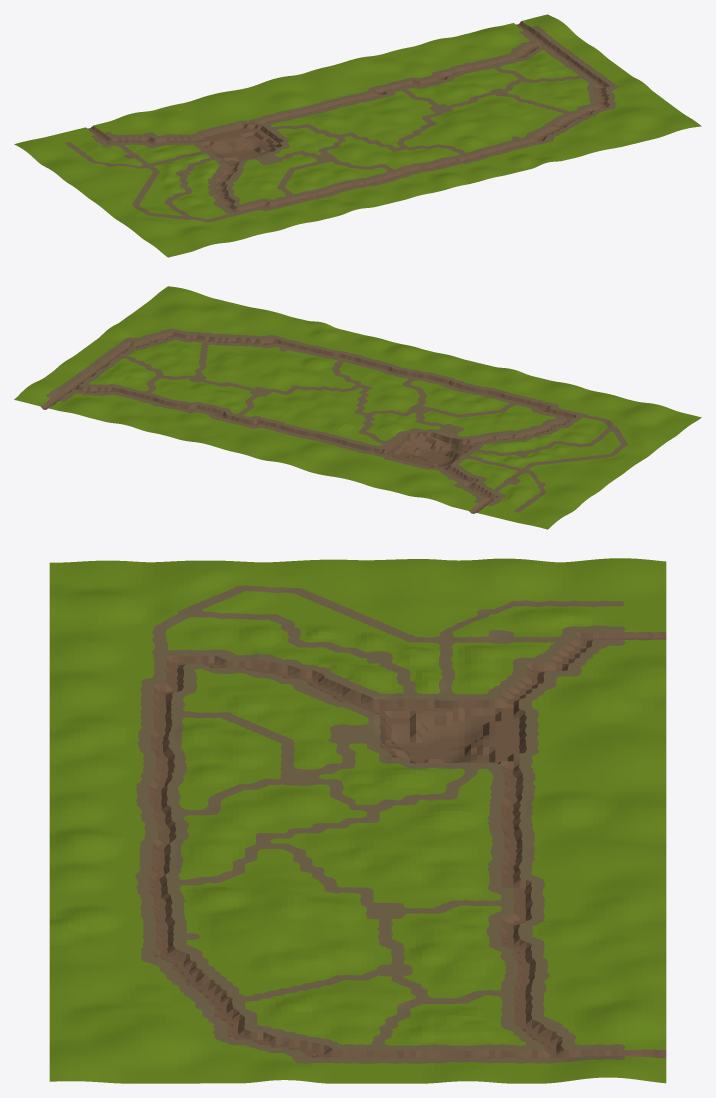
Rendered from LVL2_V_4.02.fbx.
3 views of the same model, one above another, from view 1: azimuth 30°, elevation 25°; view 2: azimuth 150°, elevation 25°; view 3: azimuth 270°, elevation 25° (orthographic). The views are drawn at different scales.
Visible parts, largest first — view 1: level_4.01; view 2: level_4.01; view 3: level_4.01.
Boxes of the visible parts, box(x1,y1,x2,y2) form: level_4.01: box(14, 14, 701, 257); level_4.01: box(14, 286, 701, 529); level_4.01: box(49, 558, 666, 1083).
Bounding box in the file's own units: 700 × 18.43 × 350.
